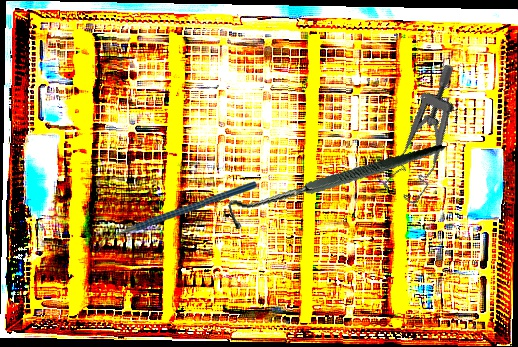Chopper: (93, 180, 259, 254)
Hook Surgical: (224, 107, 447, 266)
Speculum: (364, 61, 494, 209)
